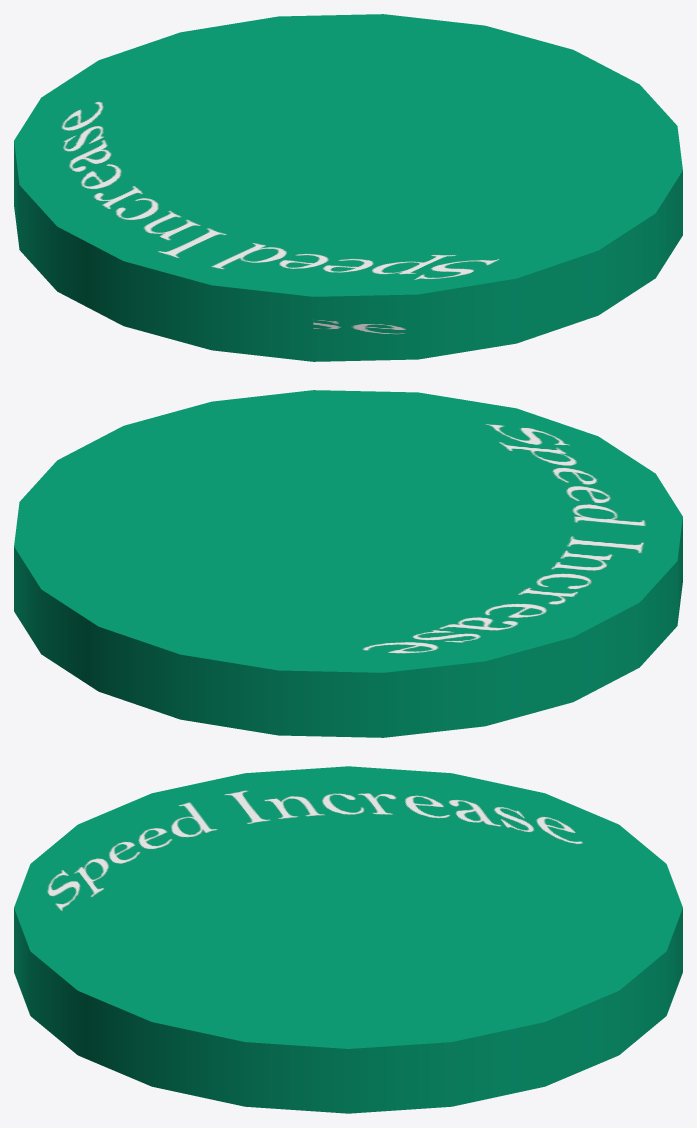
File: CoinSpeed.fbx
3 renders of one model, top to bottom at view 1: azimuth 30°, elevation 25°; view 2: azimuth 150°, elevation 25°; view 3: azimuth 270°, elevation 25°, orthographic.
Parts seen in each view (by area): view 1: pCylinder1; view 2: pCylinder1; view 3: pCylinder1.
Boxes of the visible parts, x1,y1,x2,y2 form: pCylinder1: (14, 14, 682, 361); pCylinder1: (14, 390, 682, 737); pCylinder1: (14, 766, 682, 1113).
Bounding box in the file's own units: 2 × 0.2133 × 2.
